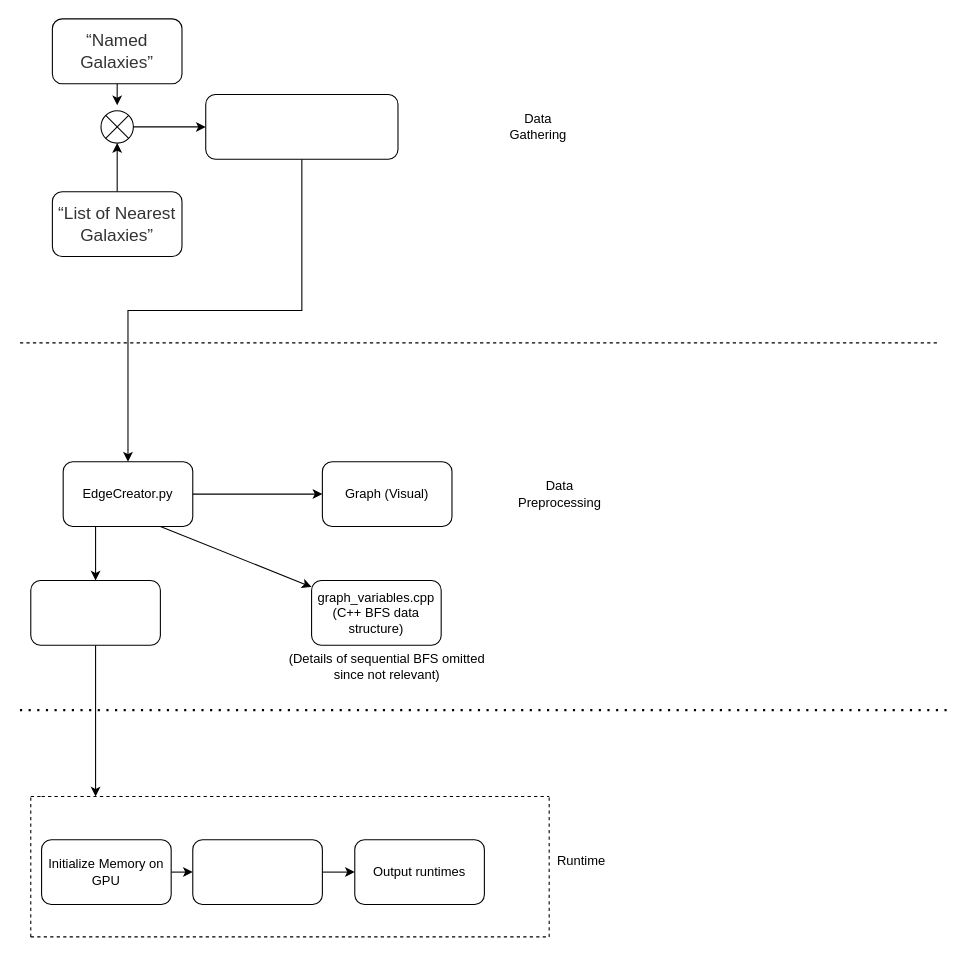
Some shapes in this 969 by 957 pixel diagram are drawn without their labels. Here are the shapes that lost their labels. From the top down, the box of each, then its label:
(205, 93, 398, 159): GalaxiesWithDistances.csv
(30, 579, 160, 645): graph_variables.cu (CUDA BFS data structure)
(192, 839, 322, 905): Perform Parallel BFS
